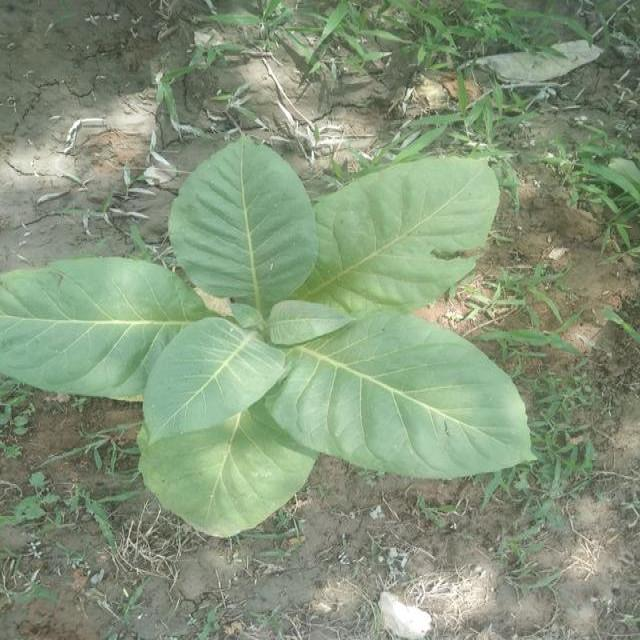crop: (0, 133, 541, 542)
